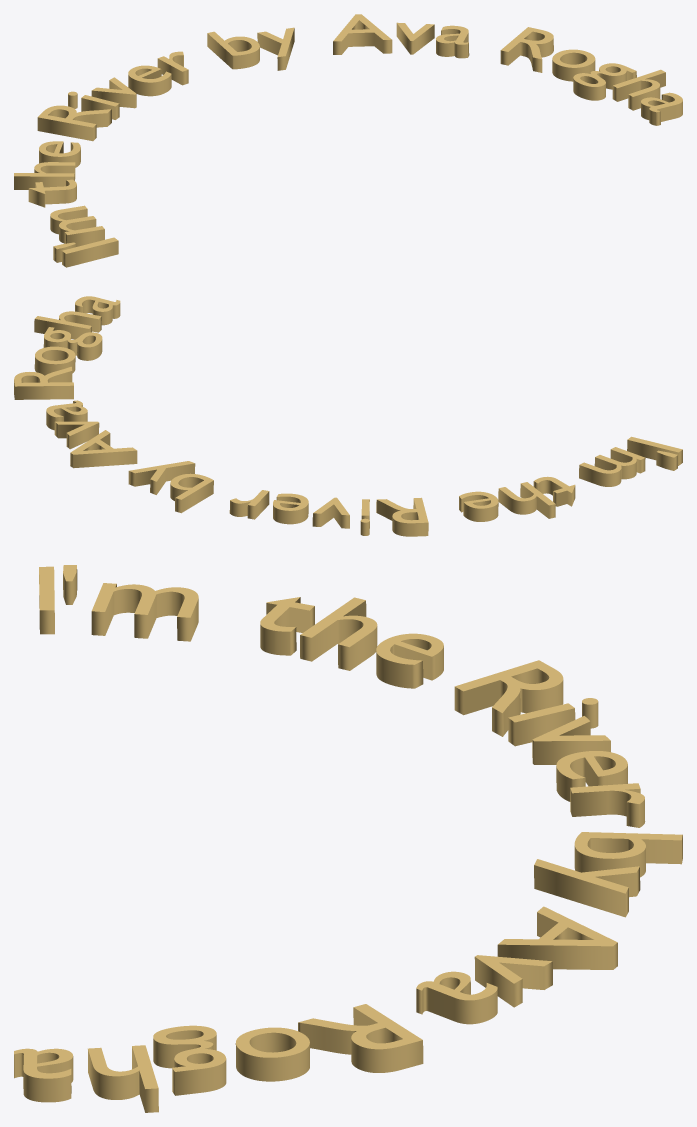
3 renders of one model, top to bottom at view 1: azimuth 30°, elevation 25°; view 2: azimuth 150°, elevation 25°; view 3: azimuth 270°, elevation 25°, orthographic. The views are drawn at different scales.
Parts seen in each view (by area): view 1: Mark1_ImTheRiver; view 2: Mark1_ImTheRiver; view 3: Mark1_ImTheRiver.
Boxes of the visible parts, box(x1,y1,x2,y2) form: Mark1_ImTheRiver: box(14, 14, 682, 267); Mark1_ImTheRiver: box(14, 296, 682, 536); Mark1_ImTheRiver: box(14, 565, 682, 1112).
Bounding box in the file's own units: 3.86 × 0.1147 × 2.04.
